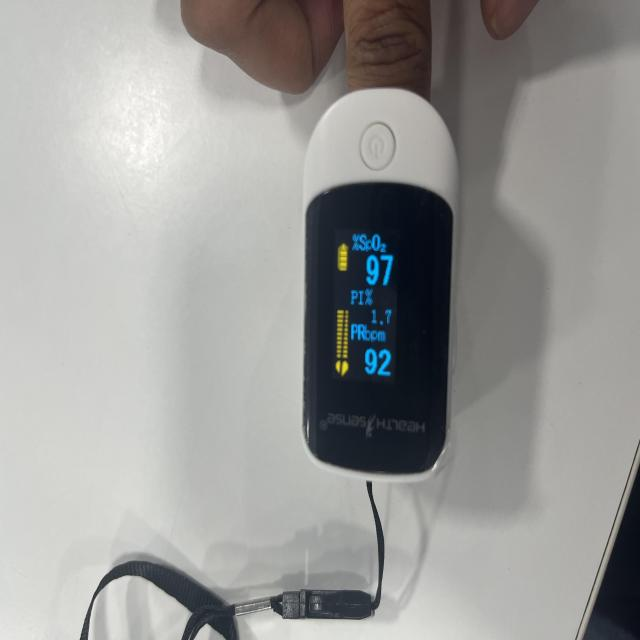spo2: (301, 88, 460, 483)
